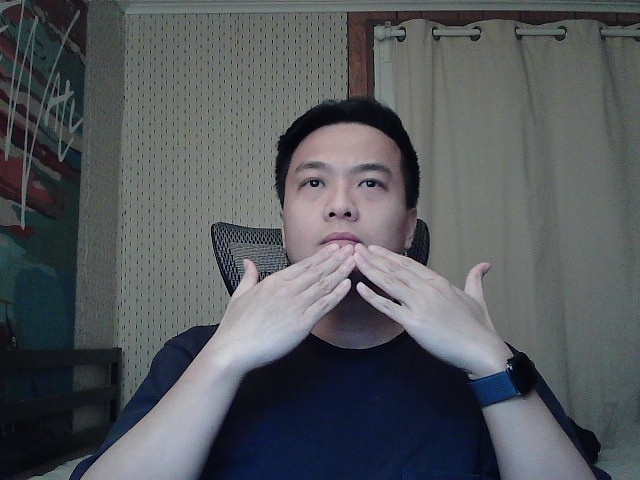Thank You: (198, 236, 529, 369)
